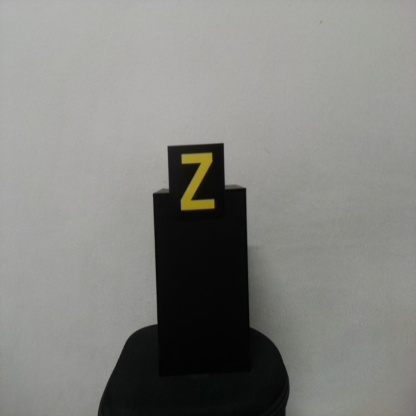id_15: (168, 145, 226, 223)
